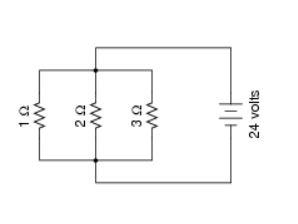resistor: (144, 91, 170, 139), (30, 95, 47, 134), (87, 97, 101, 137)
